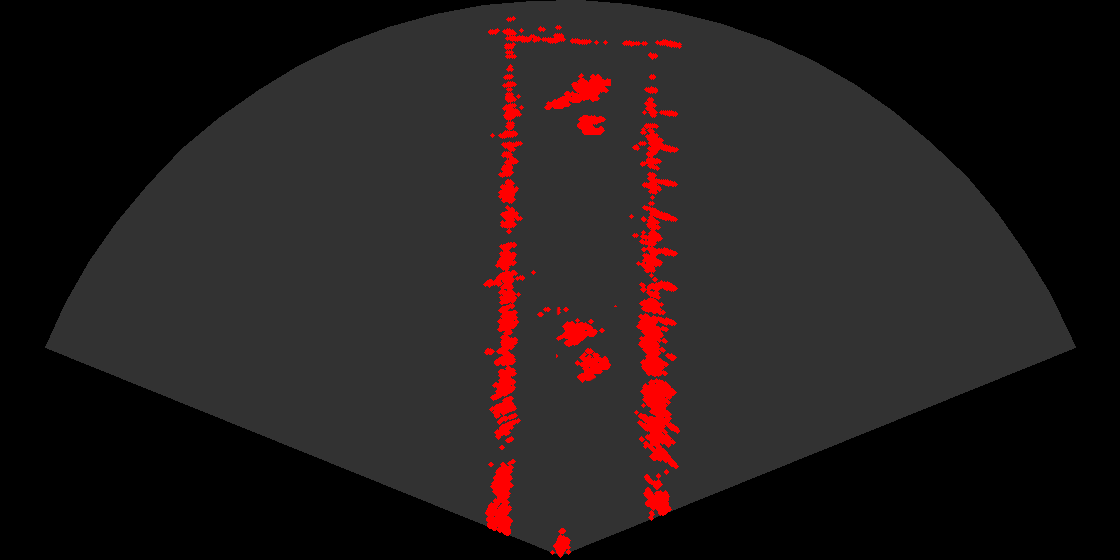ball: (557, 97, 617, 138)
cage: (556, 307, 619, 391)
frogman: (543, 67, 611, 114)
